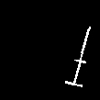double_crochet: (65, 27, 90, 86)
